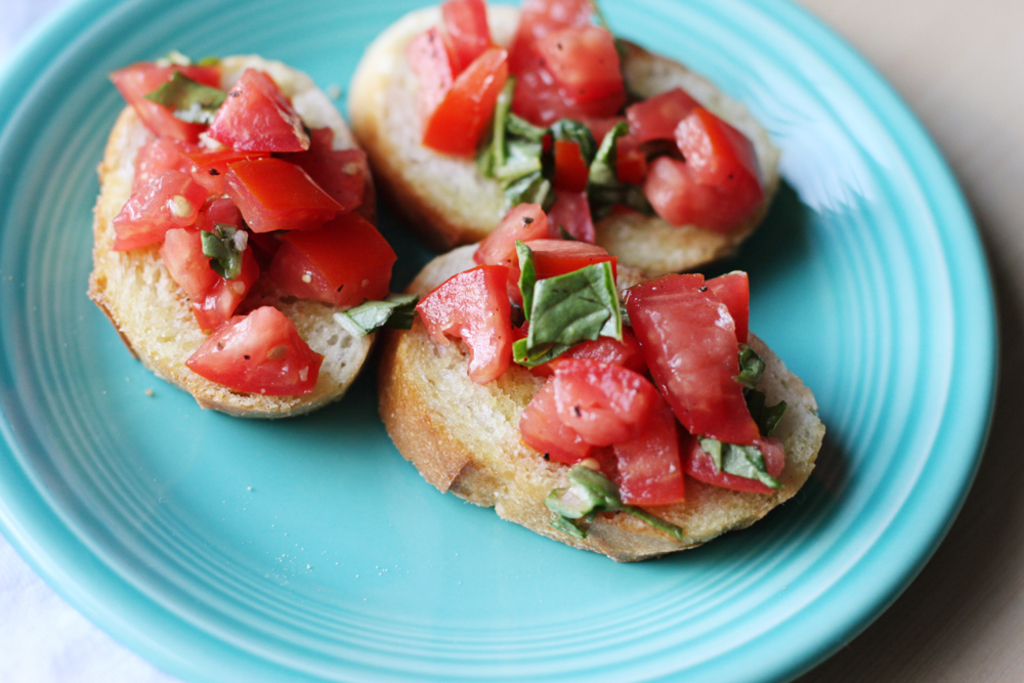Tomato: (406, 197, 796, 518), (95, 65, 394, 389), (411, 0, 762, 217)
